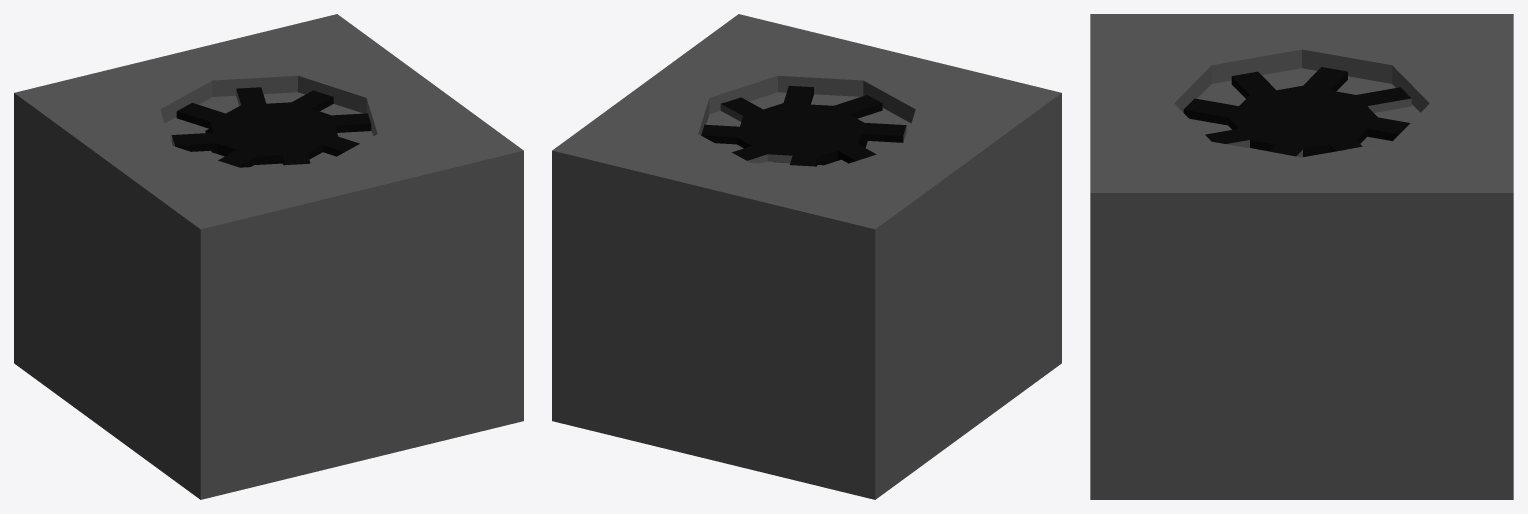
The model's file is Grosseventi.fbx.
The picture shows the model from 3 angles, left to right: view 1: azimuth 30°, elevation 25°; view 2: azimuth 150°, elevation 25°; view 3: azimuth 270°, elevation 25°; orthographic projection. The views are drawn at different scales.
Visible parts, largest first — view 1: Cube.072, Cube.021; view 2: Cube.072, Cube.021; view 3: Cube.072, Cube.021.
Boxes of the visible parts, x1,y1,x2,y2 form: Cube.072: [14, 14, 523, 499]; Cube.021: [171, 87, 371, 167]; Cube.072: [552, 14, 1061, 499]; Cube.021: [701, 85, 906, 166]; Cube.072: [1090, 14, 1513, 499]; Cube.021: [1183, 67, 1411, 157].
Size of the model in its own units: 500 by 400 by 500.
